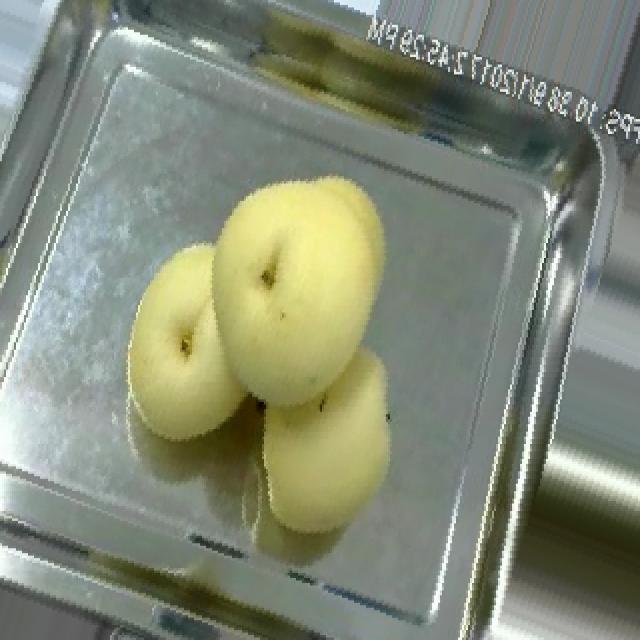Fruit: (94, 146, 422, 472), (226, 300, 430, 563)
